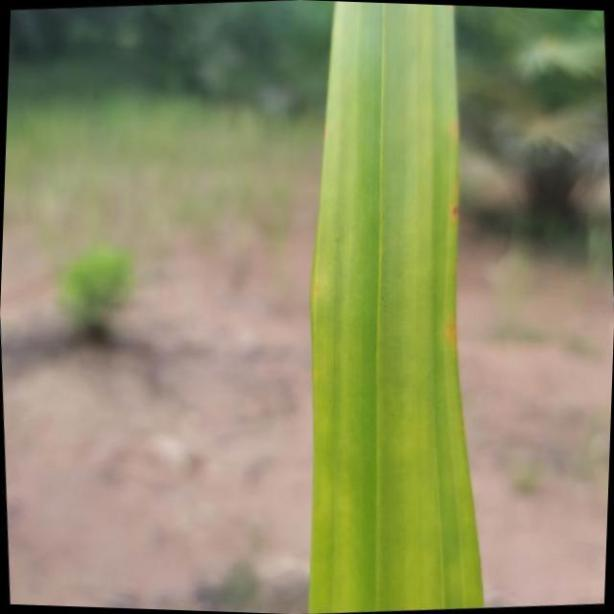nitrogen: (300, 0, 480, 614)
